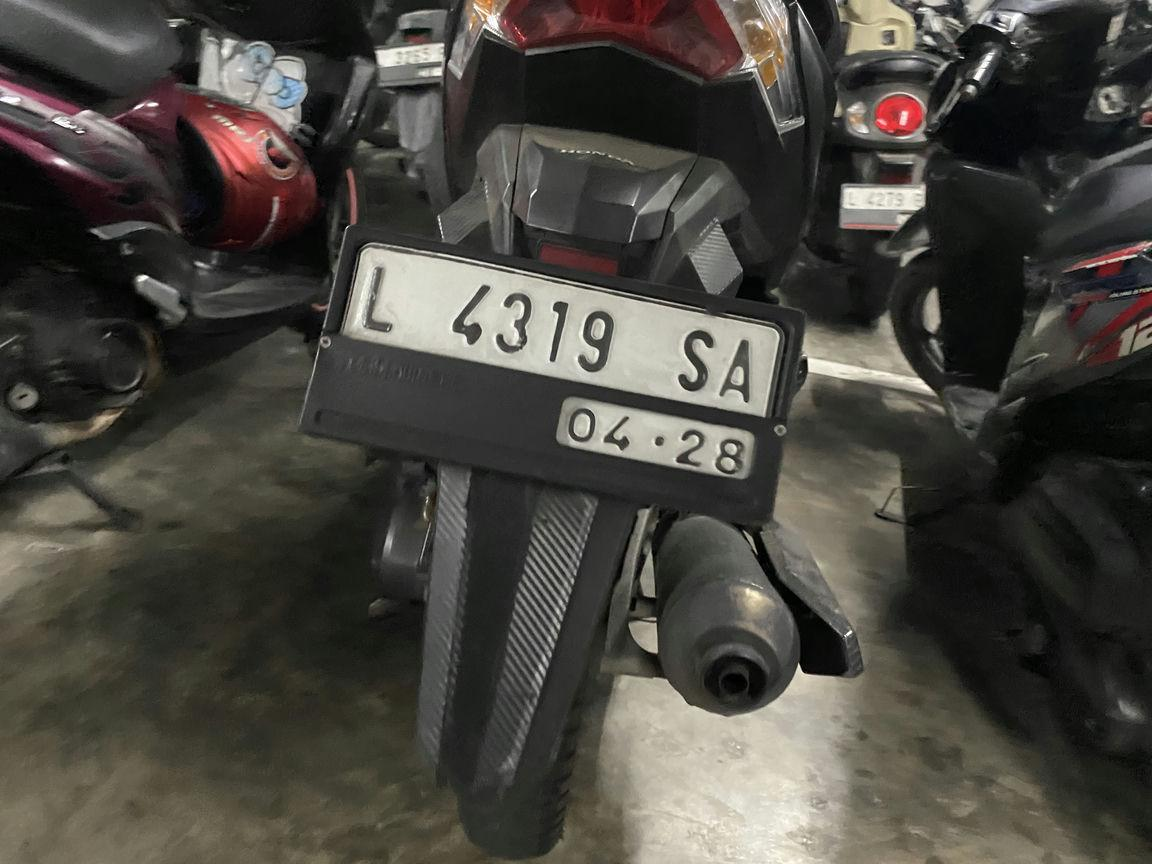plat: (302, 227, 803, 526)
